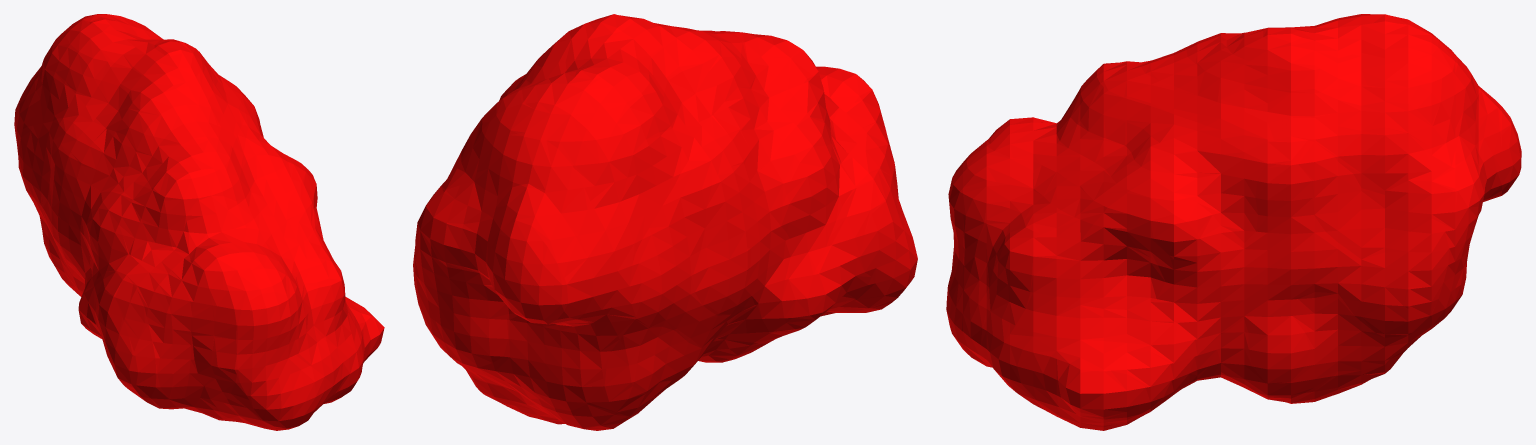
The model's file is nlpA_coarse.dae.
The picture shows the model from 3 angles, left to right: view 1: azimuth 30°, elevation 25°; view 2: azimuth 150°, elevation 25°; view 3: azimuth 270°, elevation 25°; orthographic projection. The views are drawn at different scales.
Visible parts, largest first — view 1: nlpA; view 2: nlpA; view 3: nlpA.
Part boxes in pixels (box(x1,y1,x2,y2)): nlpA: box(14, 14, 384, 430); nlpA: box(413, 14, 917, 430); nlpA: box(946, 14, 1521, 430).
Size of the model in its own units: 40.72 by 45.89 by 64.59.
